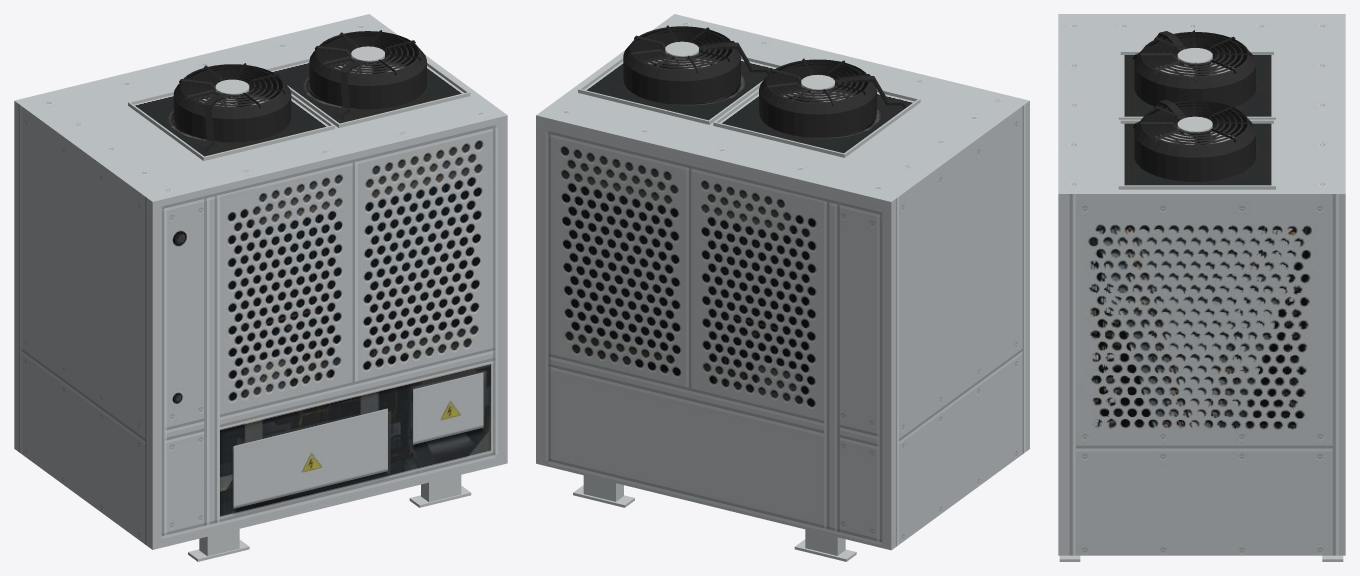
File: 冷却塔.obj
The picture shows the model from 3 angles, left to right: view 1: azimuth 30°, elevation 25°; view 2: azimuth 150°, elevation 25°; view 3: azimuth 270°, elevation 25°; orthographic projection. The views are drawn at different scales.
Parts seen in each view (by area): view 1: Box001, Cylinder006, Cylinder001, object 26, object 24, quanquanquan002, quanquanquan001, Box011, Box010, Box004, Box002; view 2: Box001, Cylinder006, Cylinder001, object 26, object 24, quanquanquan001, quanquanquan002, Box011, Box010, Box006, Box008; view 3: Box001, Cylinder001, Cylinder006, object 24, object 26, quanquanquan002, quanquanquan001, Box010, Box011, Cylinder004, Cylinder005.
Part boxes in pixels (x1,y1,x2,y2): Box001: [14, 14, 507, 549]; Cylinder006: [173, 66, 291, 142]; Cylinder001: [309, 33, 426, 109]; object 26: [134, 94, 328, 156]; object 24: [271, 60, 463, 123]; quanquanquan002: [180, 64, 284, 108]; quanquanquan001: [316, 31, 420, 75]; Box011: [128, 91, 334, 160]; Box010: [265, 58, 470, 127]; Box004: [421, 475, 461, 502]; Box002: [199, 529, 239, 556]; Box001: [536, 14, 1029, 550]; Cylinder006: [759, 61, 876, 137]; Cylinder001: [623, 28, 740, 104]; object 26: [719, 89, 914, 153]; object 24: [584, 56, 776, 120]; quanquanquan001: [630, 26, 734, 70]; quanquanquan002: [765, 59, 870, 103]; Box011: [713, 89, 920, 157]; Box010: [578, 56, 782, 124]; Box006: [583, 475, 623, 501]; Box008: [805, 529, 845, 555]; Box001: [1058, 14, 1345, 555]; Cylinder001: [1134, 102, 1255, 181]; Cylinder006: [1134, 33, 1255, 106]; object 24: [1120, 123, 1273, 185]; object 26: [1120, 55, 1273, 116]; quanquanquan002: [1141, 32, 1249, 77]; quanquanquan001: [1141, 100, 1249, 146]; Box010: [1118, 119, 1275, 189]; Box011: [1118, 51, 1275, 119]; Cylinder004: [1177, 116, 1212, 132]; Cylinder005: [1177, 48, 1212, 65].
Size of the model in its own units: 2000 by 2188 by 1350.
